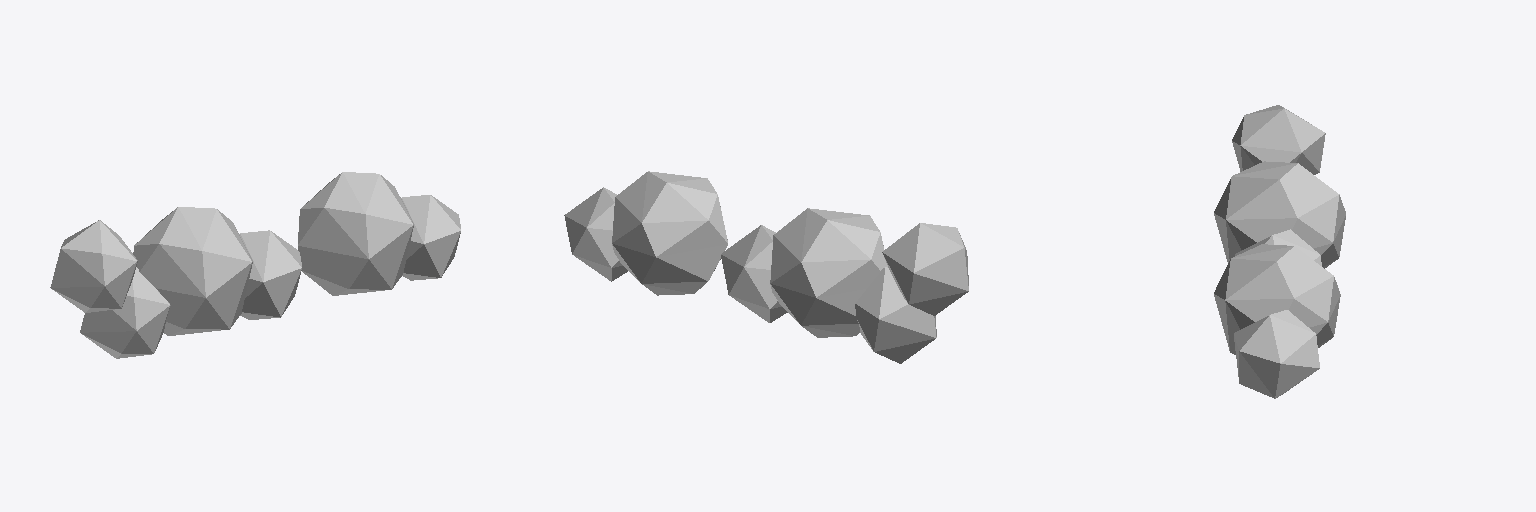
File: Cloud3.obj
3 views of the same model, side by side, from view 1: azimuth 30°, elevation 25°; view 2: azimuth 150°, elevation 25°; view 3: azimuth 270°, elevation 25° (orthographic).
Visible parts, largest first — view 1: Cloud3_Object_72_Object_34.001; view 2: Cloud3_Object_72_Object_34.001; view 3: Cloud3_Object_72_Object_34.001.
Boxes of the visible parts, x1=… form: Cloud3_Object_72_Object_34.001: x1=50, y1=172, x2=460, y2=358; Cloud3_Object_72_Object_34.001: x1=564, y1=171, x2=968, y2=363; Cloud3_Object_72_Object_34.001: x1=1214, y1=105, x2=1345, y2=398.
Size of the model in its own units: 4.64 by 1.58 by 1.31.